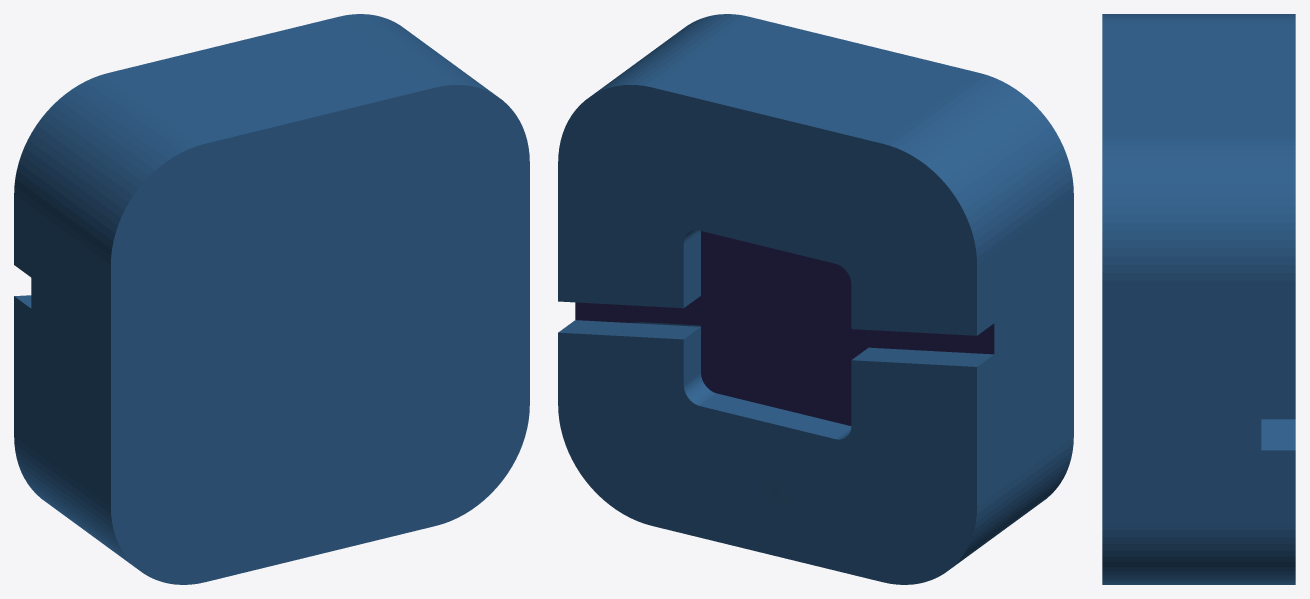
File: tapNote_original.fbx
3 views of the same model, side by side, from view 1: azimuth 30°, elevation 25°; view 2: azimuth 150°, elevation 25°; view 3: azimuth 270°, elevation 25° (orthographic).
Parts seen in each view (by area): view 1: TAP; view 2: TAP; view 3: TAP.
Part boxes in pixels (<box>): TAP: <box>14,14,529,584</box>; TAP: <box>558,14,1073,584</box>; TAP: <box>1102,14,1295,584</box>.
Size of the model in its own units: 200 by 200 by 80.
Materials: 1 (1 with a texture image).
